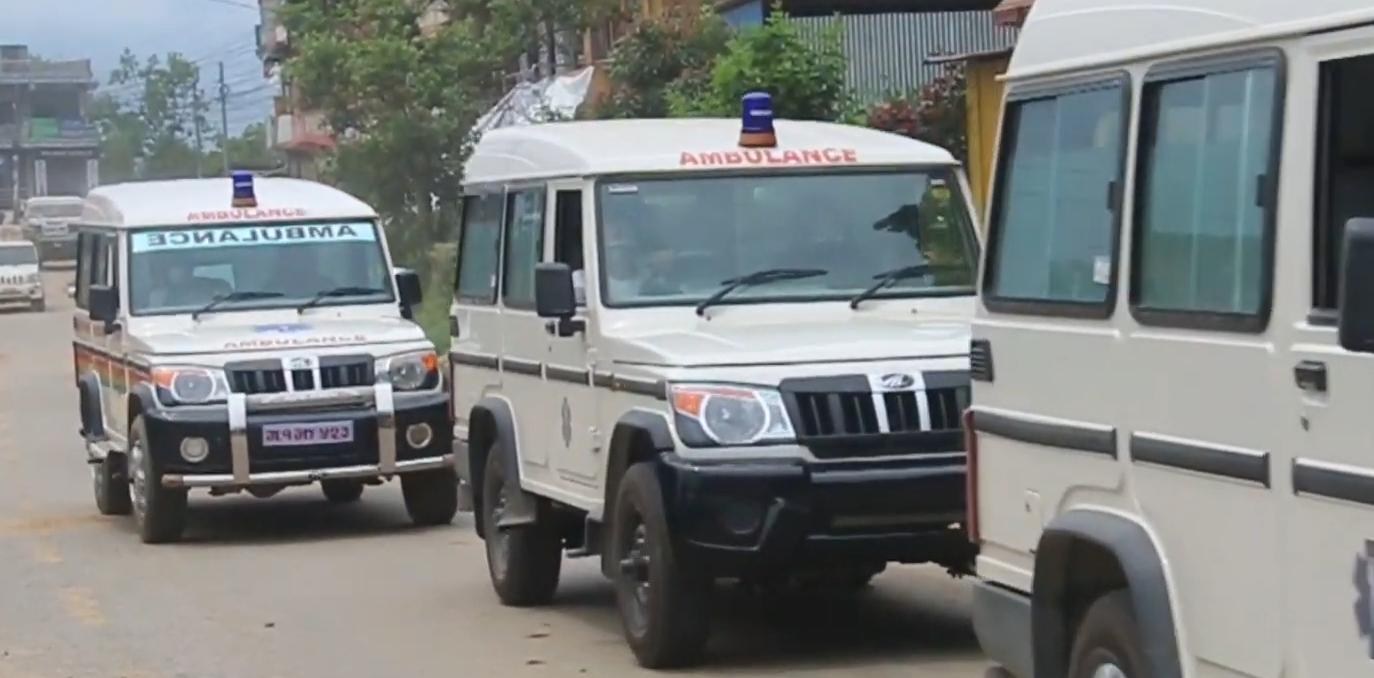ambulance: (441, 89, 1013, 668), (66, 165, 476, 547)
